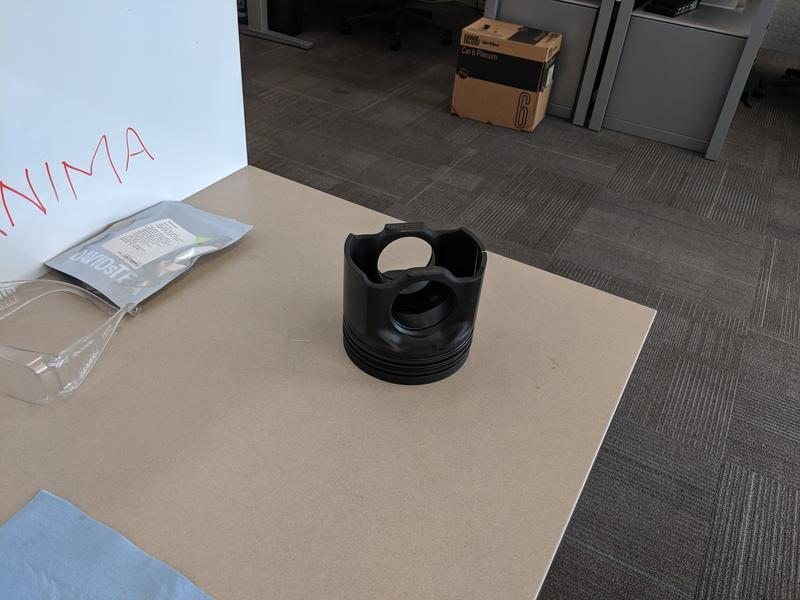piston: (333, 217, 494, 392)
